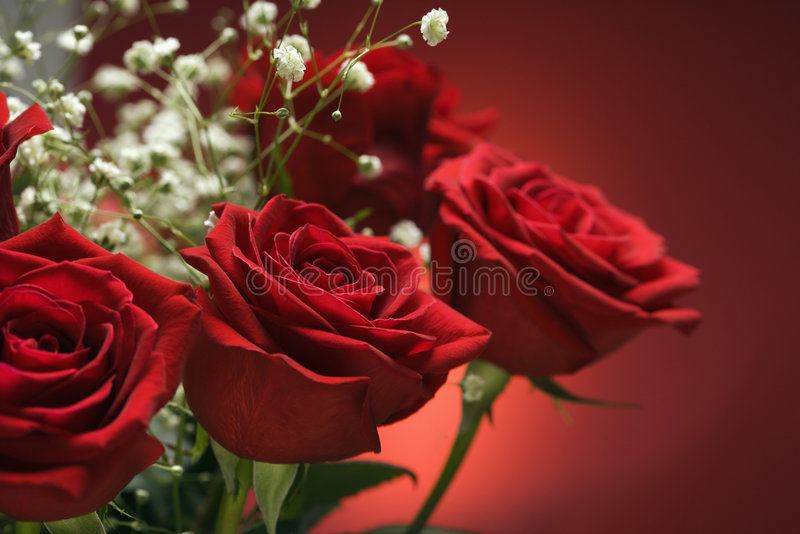RedRose: (177, 183, 503, 474), (432, 143, 713, 387), (0, 187, 190, 534), (236, 36, 508, 188)
